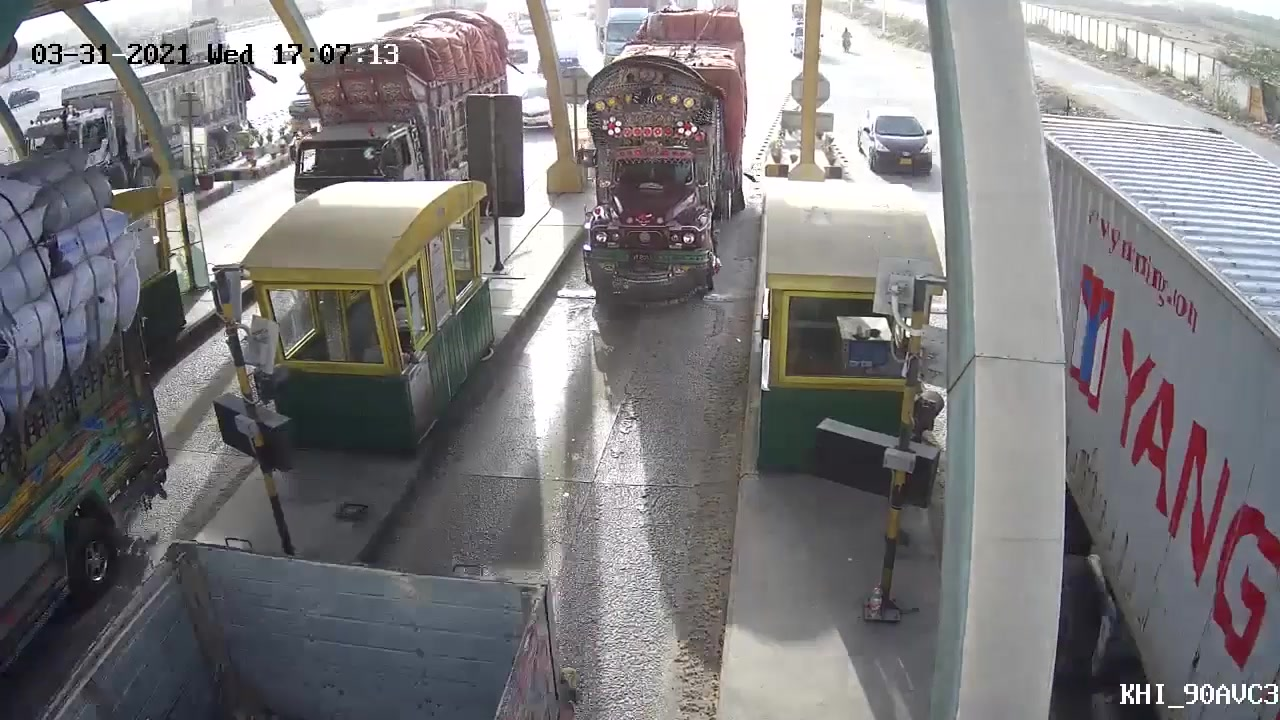F5: (560, 8, 757, 318)
